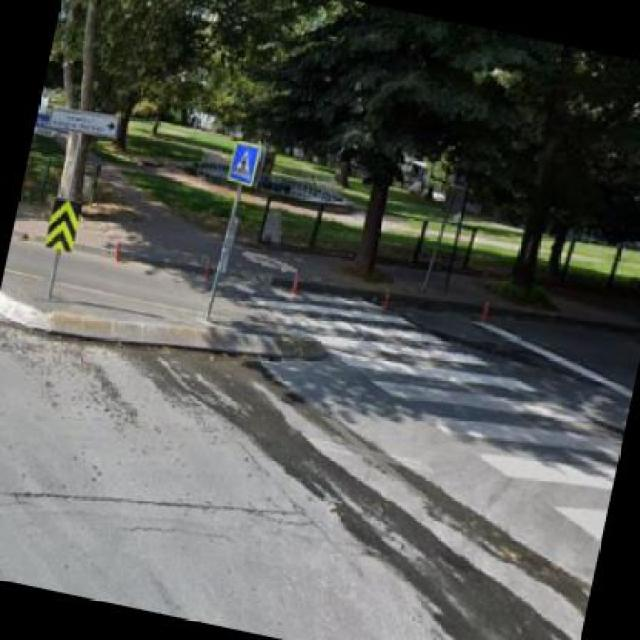yaya: (229, 145, 259, 183)
